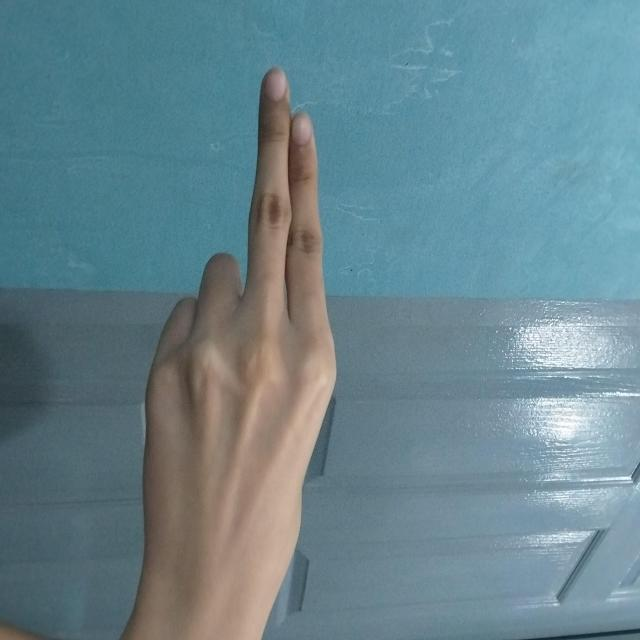H: (70, 299, 570, 496)
